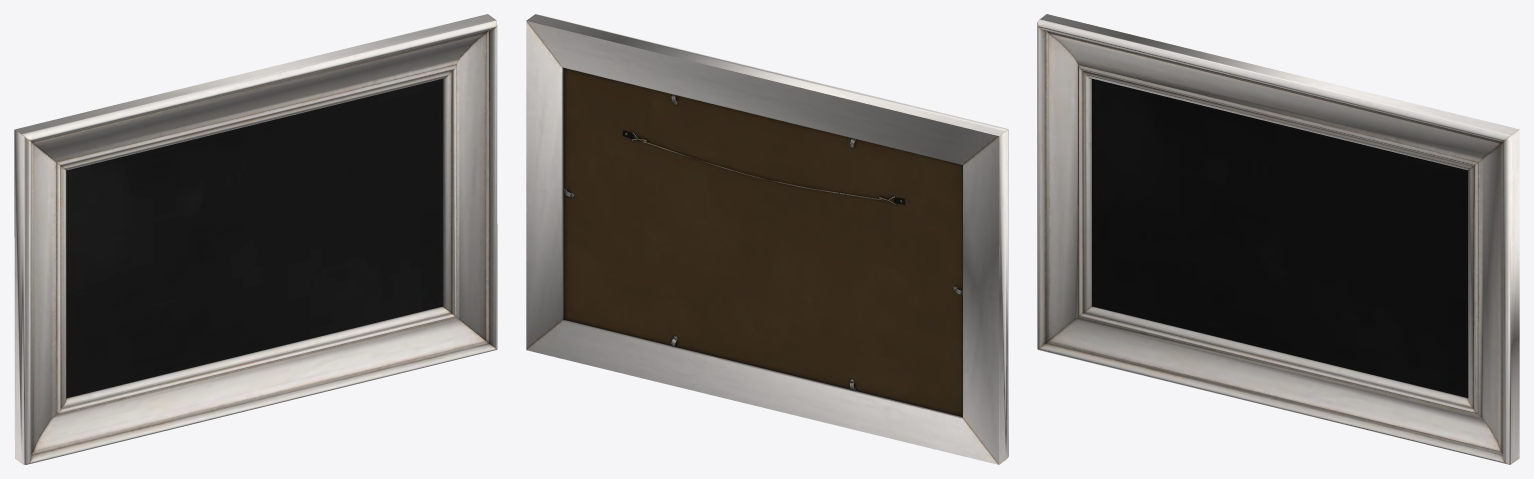
Rendered from hanging_picture_frame_02.glb.
3 views of the same model, side by side, from view 1: azimuth 30°, elevation 25°; view 2: azimuth 150°, elevation 25°; view 3: azimuth 330°, elevation 25° (orthographic).
Parts seen in each view (by area): view 1: hanging_picture_frame_02; view 2: hanging_picture_frame_02; view 3: hanging_picture_frame_02.
Part boxes in pixels (x1,y1,x2,y2): hanging_picture_frame_02: (14, 14, 497, 464); hanging_picture_frame_02: (526, 14, 1008, 464); hanging_picture_frame_02: (1037, 14, 1519, 464).
Size of the model in its own units: 0.7512 by 0.5 by 0.0326.
3 materials, 3 textured.
